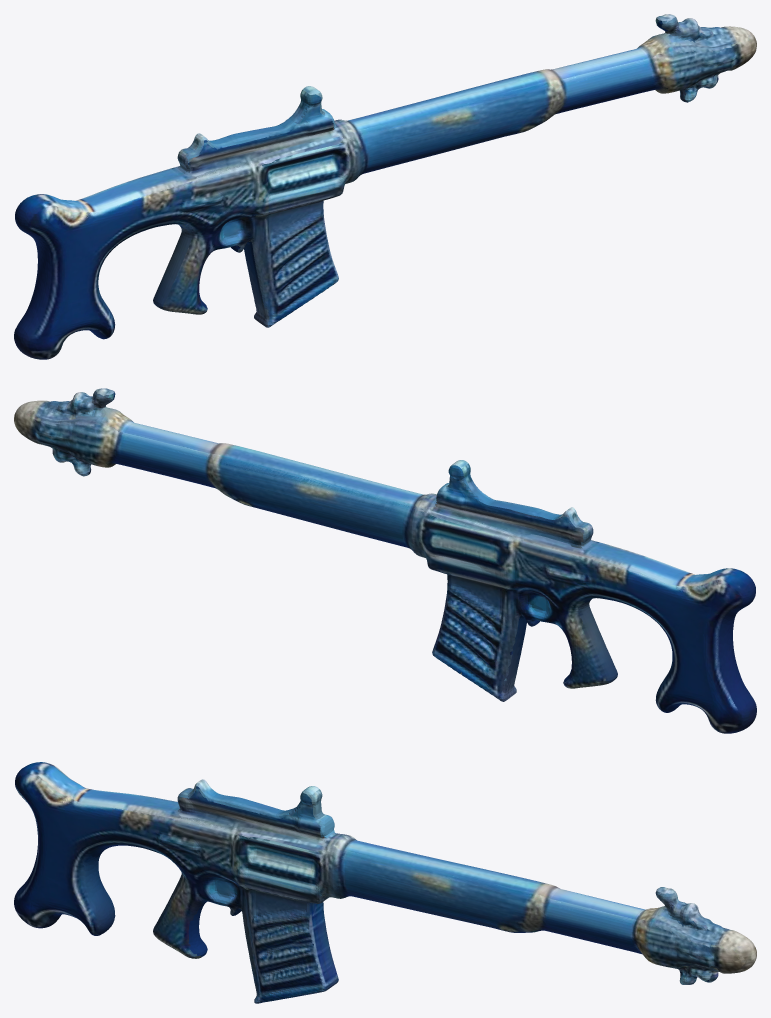
The model's file is chelsea_weapon.glb.
3 renders of one model, top to bottom at view 1: azimuth 30°, elevation 25°; view 2: azimuth 150°, elevation 25°; view 3: azimuth 330°, elevation 25°, orthographic.
Visible parts, largest first — view 1: tmpnz525848.ply; view 2: tmpnz525848.ply; view 3: tmpnz525848.ply.
Part boxes in pixels (box(x1,y1,x2,y2)): tmpnz525848.ply: box(14, 14, 756, 359); tmpnz525848.ply: box(14, 388, 756, 733); tmpnz525848.ply: box(14, 762, 756, 1003).
Size of the model in its own units: 1.99 by 0.5778 by 0.1299.
1 material, 1 textured.
